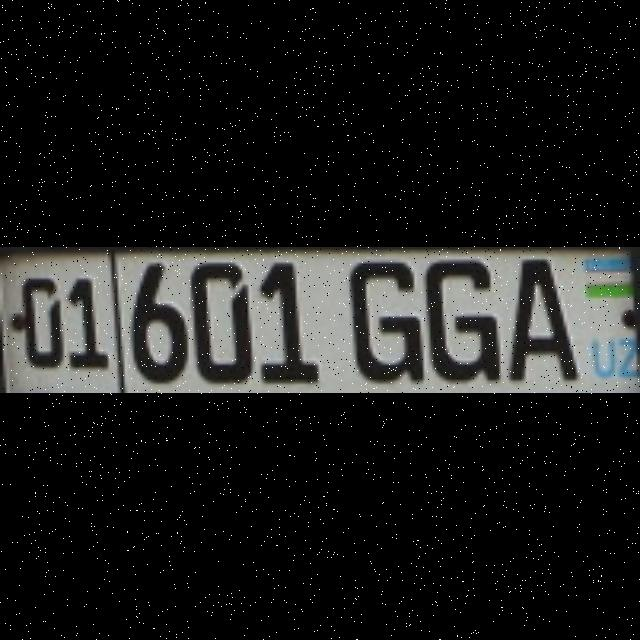0: (185, 256, 249, 378), (17, 272, 58, 362)
1: (254, 256, 312, 378), (64, 272, 104, 368)
6: (128, 260, 184, 378)
A: (506, 253, 574, 377)
G: (421, 256, 497, 378), (344, 257, 416, 381)
